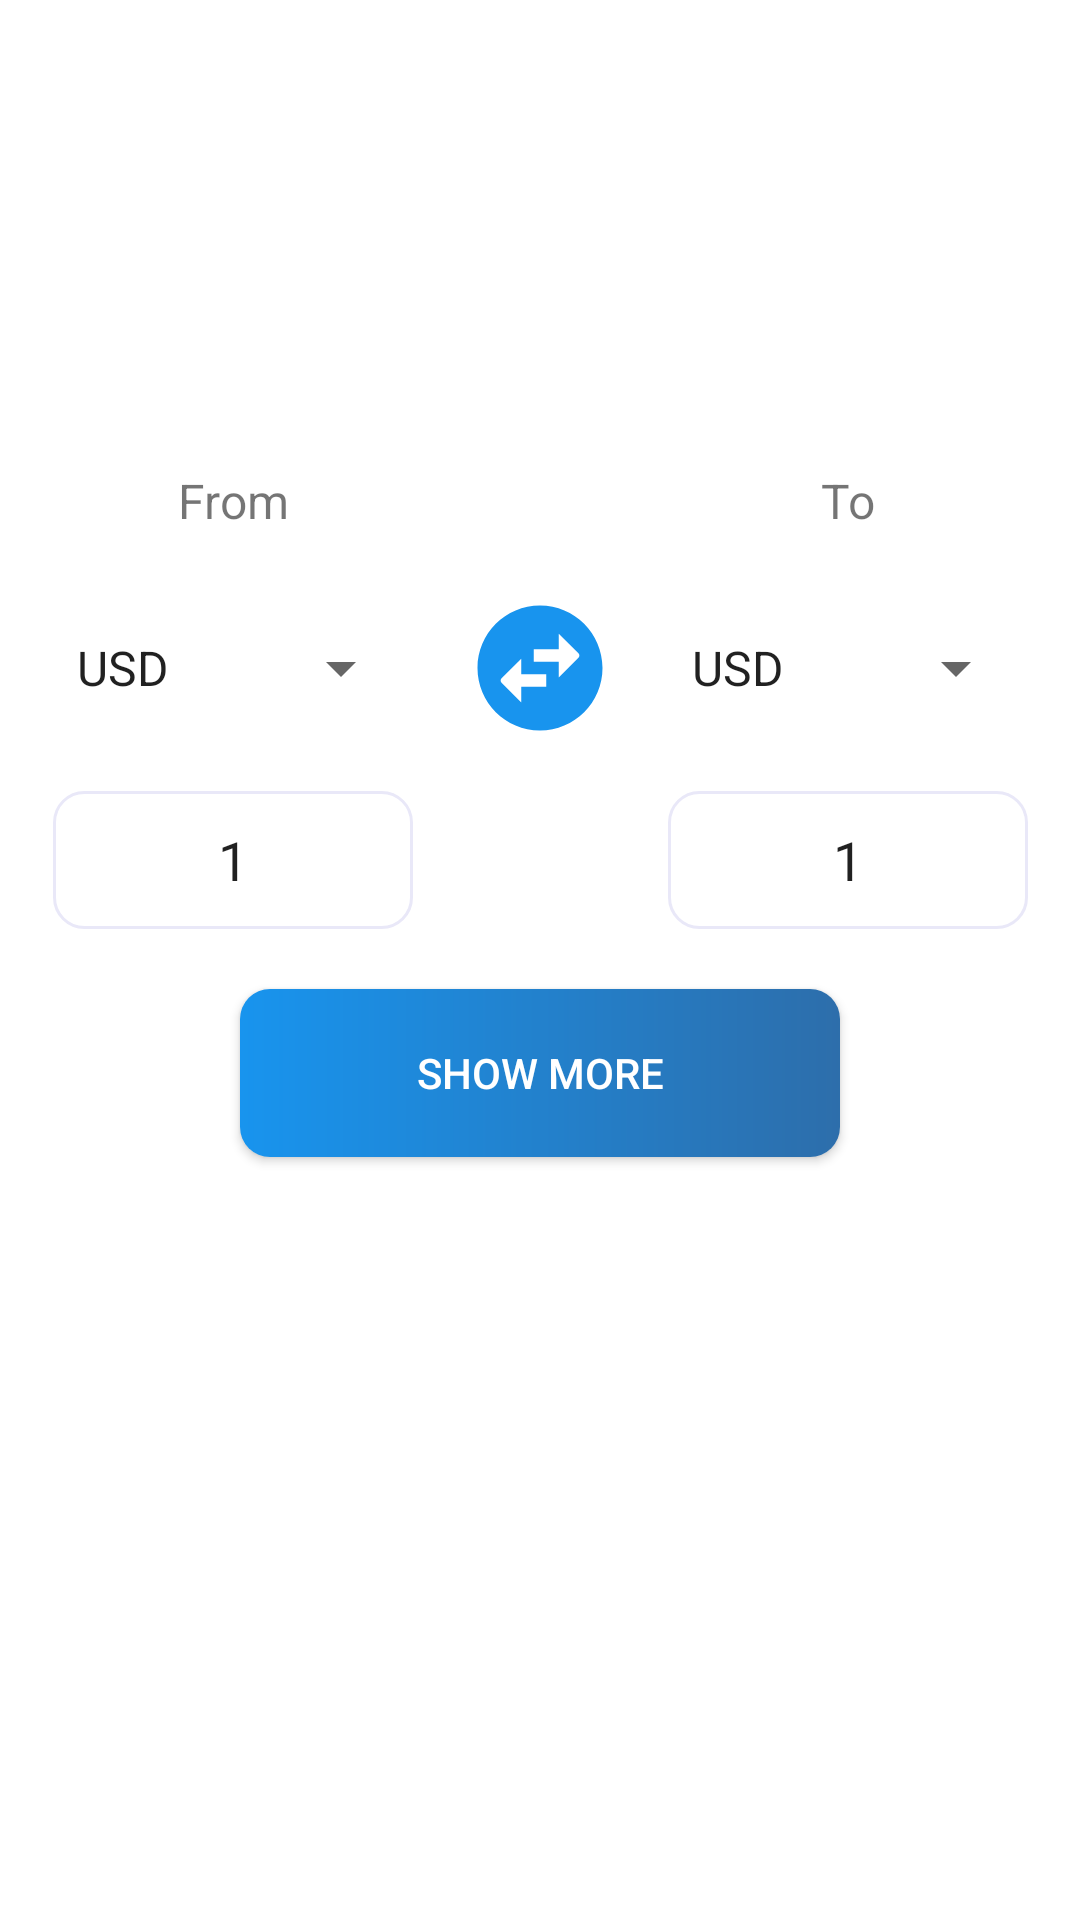

Icon bounding boxes for this 1080*1920 phone screenshot, format (x1, y1, x2, y2):
swap: (477, 605, 603, 731)
